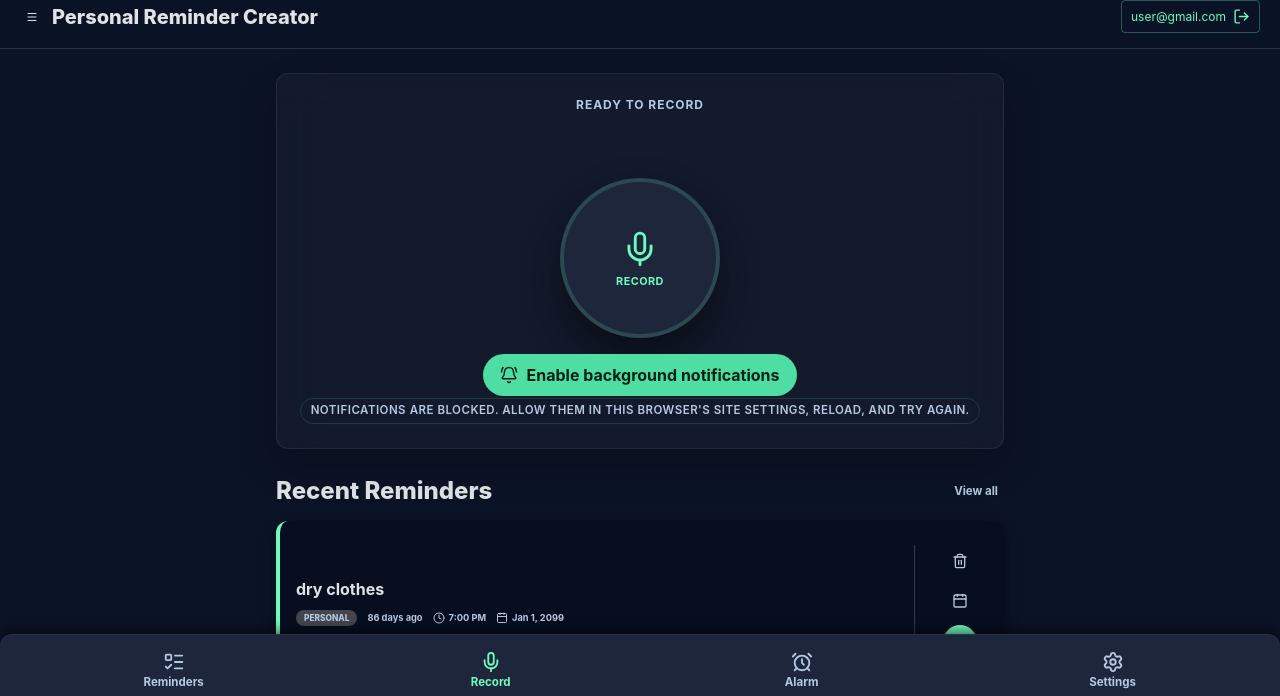
Test: App › discards reschedule changes and returns to the previous home view
Expected: the text "dry clothes" is shown, left=296, top=578, right=384, bottom=598
Click the button named "reschedule dry clothes": (960, 601) left=944, top=585, right=976, bottom=617
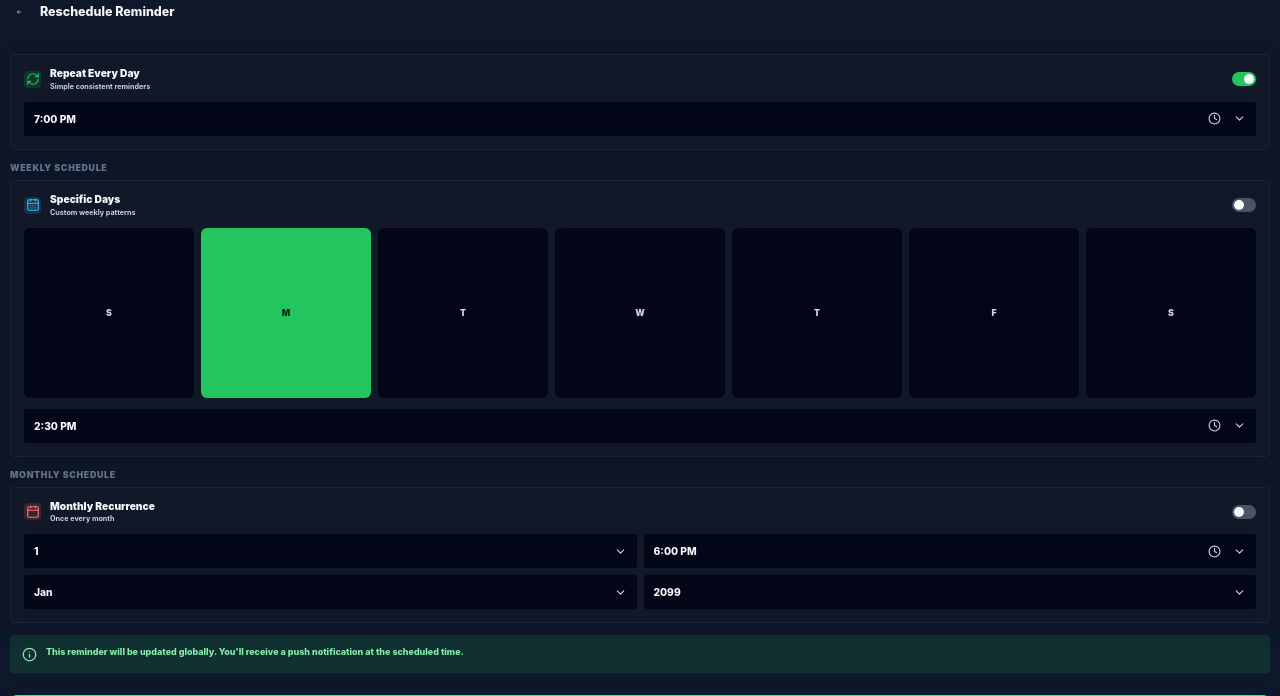
Select "10:30 AM" in the dropdown named "daily time": (640, 119) left=24, top=102, right=1256, bottom=136
(page scrolled)
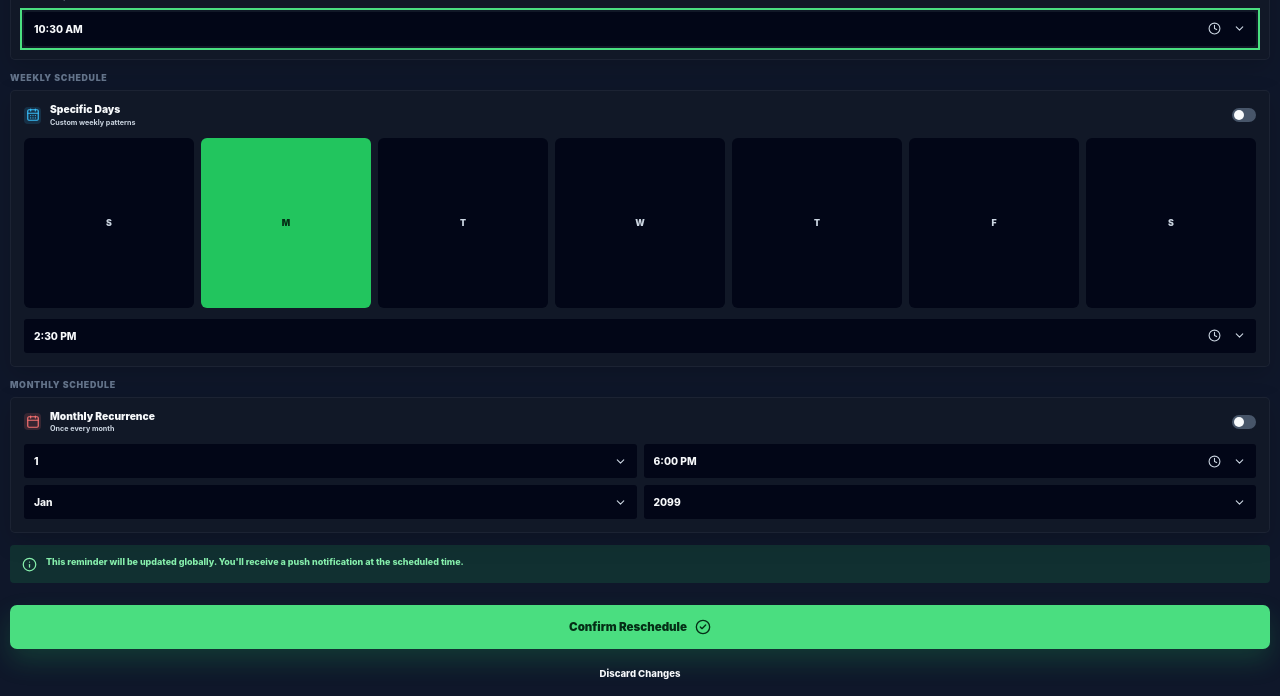
Click the button "Discard Changes": (640, 673) left=594, top=661, right=686, bottom=685
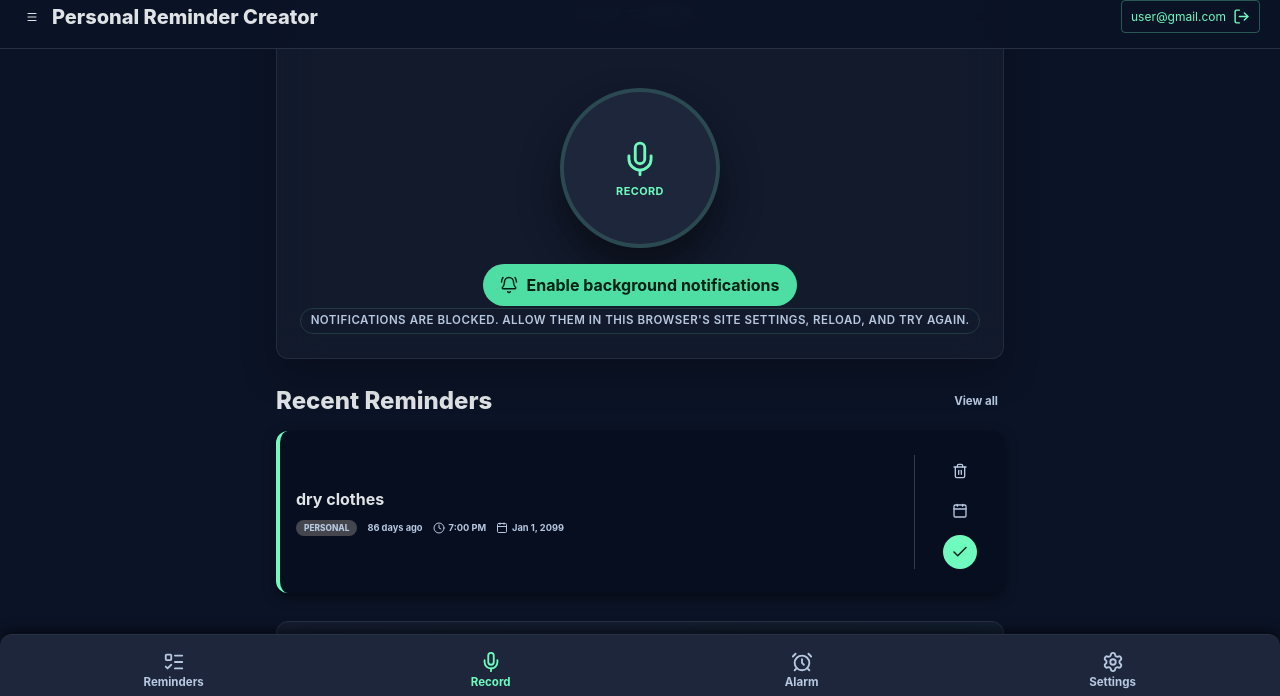
Now the heading "Recent Reminders" is shown, box left=276, top=386, right=492, bottom=415
